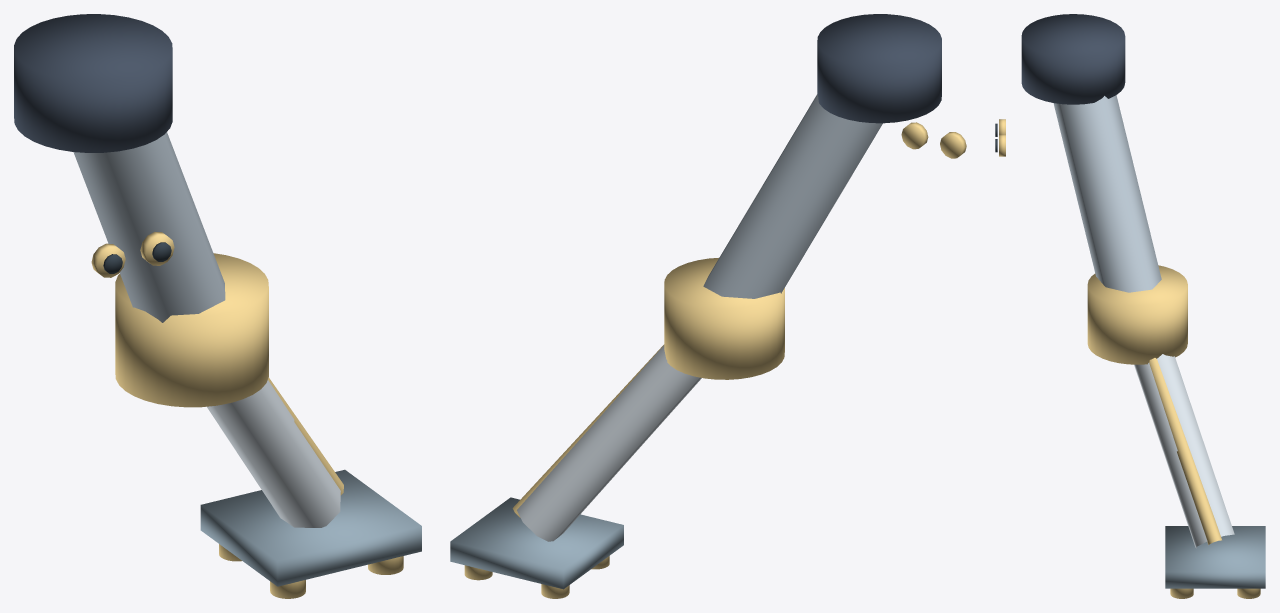
The model's file is 22_L92_ArticulatedLandingLegE.glb.
3 views of the same model, side by side, from view 1: azimuth 30°, elevation 25°; view 2: azimuth 150°, elevation 25°; view 3: azimuth 270°, elevation 25° (orthographic). The views are drawn at different scales.
Parts seen in each view (by area): view 1: L92_ArticulatedLandingLegE_Part_0002, L92_ArticulatedLandingLegE_Part_0003, L92_ArticulatedLandingLegE_Part_0000, L92_ArticulatedLandingLegE_Part_0005, L92_ArticulatedLandingLegE_Part_0004, L92_ArticulatedLandingLegE_Part_0006, L92_ArticulatedLandingLegE_Part_0007, L92_ArticulatedLandingLegE_Part_0009; view 2: L92_ArticulatedLandingLegE_Part_0000, L92_ArticulatedLandingLegE_Part_0002, L92_ArticulatedLandingLegE_Part_0003, L92_ArticulatedLandingLegE_Part_0004, L92_ArticulatedLandingLegE_Part_0005, L92_ArticulatedLandingLegE_Part_0006; view 3: L92_ArticulatedLandingLegE_Part_0000, L92_ArticulatedLandingLegE_Part_0003, L92_ArticulatedLandingLegE_Part_0002, L92_ArticulatedLandingLegE_Part_0004, L92_ArticulatedLandingLegE_Part_0005, L92_ArticulatedLandingLegE_Part_0006.
Boxes of the visible parts, x1,y1,x2,y2 form: L92_ArticulatedLandingLegE_Part_0002: (14, 14, 172, 152); L92_ArticulatedLandingLegE_Part_0003: (115, 253, 343, 495); L92_ArticulatedLandingLegE_Part_0000: (73, 132, 225, 322); L92_ArticulatedLandingLegE_Part_0005: (200, 469, 421, 586); L92_ArticulatedLandingLegE_Part_0004: (207, 380, 340, 527); L92_ArticulatedLandingLegE_Part_0006: (219, 544, 403, 598); L92_ArticulatedLandingLegE_Part_0007: (91, 243, 125, 277); L92_ArticulatedLandingLegE_Part_0009: (140, 232, 174, 265); L92_ArticulatedLandingLegE_Part_0000: (703, 94, 882, 298); L92_ArticulatedLandingLegE_Part_0002: (817, 14, 941, 123); L92_ArticulatedLandingLegE_Part_0003: (512, 258, 784, 517); L92_ArticulatedLandingLegE_Part_0004: (517, 345, 701, 541); L92_ArticulatedLandingLegE_Part_0005: (450, 497, 623, 589); L92_ArticulatedLandingLegE_Part_0006: (464, 556, 609, 598); L92_ArticulatedLandingLegE_Part_0000: (1053, 95, 1161, 292); L92_ArticulatedLandingLegE_Part_0003: (1087, 265, 1221, 544); L92_ArticulatedLandingLegE_Part_0002: (1021, 14, 1125, 104); L92_ArticulatedLandingLegE_Part_0004: (1134, 354, 1234, 548); L92_ArticulatedLandingLegE_Part_0005: (1165, 526, 1265, 588); L92_ArticulatedLandingLegE_Part_0006: (1170, 588, 1260, 598).
Bounding box in the file's own units: 2.11 × 2.9 × 1.62.
